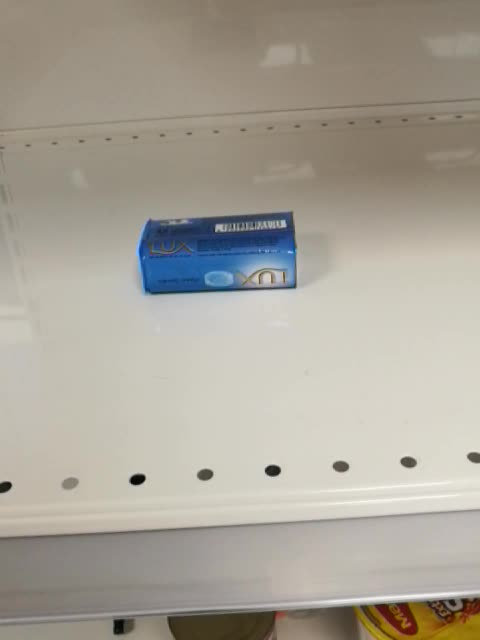soap: (135, 208, 300, 295)
